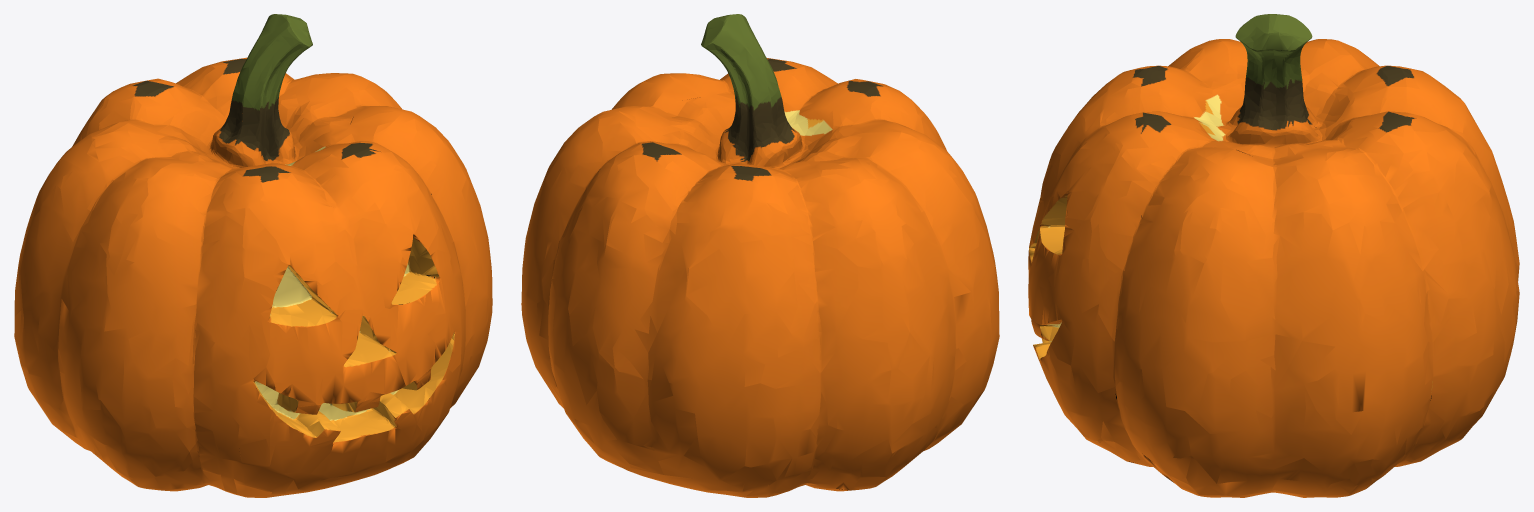
The model's file is BallPumpkin.fbx.
3 views of the same model, side by side, from view 1: azimuth 30°, elevation 25°; view 2: azimuth 150°, elevation 25°; view 3: azimuth 270°, elevation 25° (orthographic). The views are drawn at different scales.
Parts seen in each view (by area): view 1: BallPumpkin; view 2: BallPumpkin; view 3: BallPumpkin.
Part boxes in pixels (x1,y1,x2,y2): BallPumpkin: [14, 14, 492, 497]; BallPumpkin: [521, 14, 999, 497]; BallPumpkin: [1028, 14, 1519, 497].
Bounding box in the file's own units: 189 × 185 × 190.
1 material, 1 textured.
